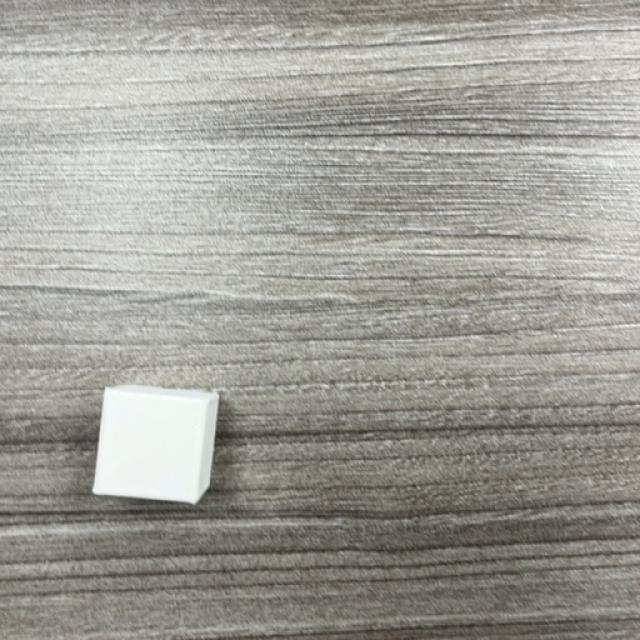Blanco: (91, 385, 221, 508)
